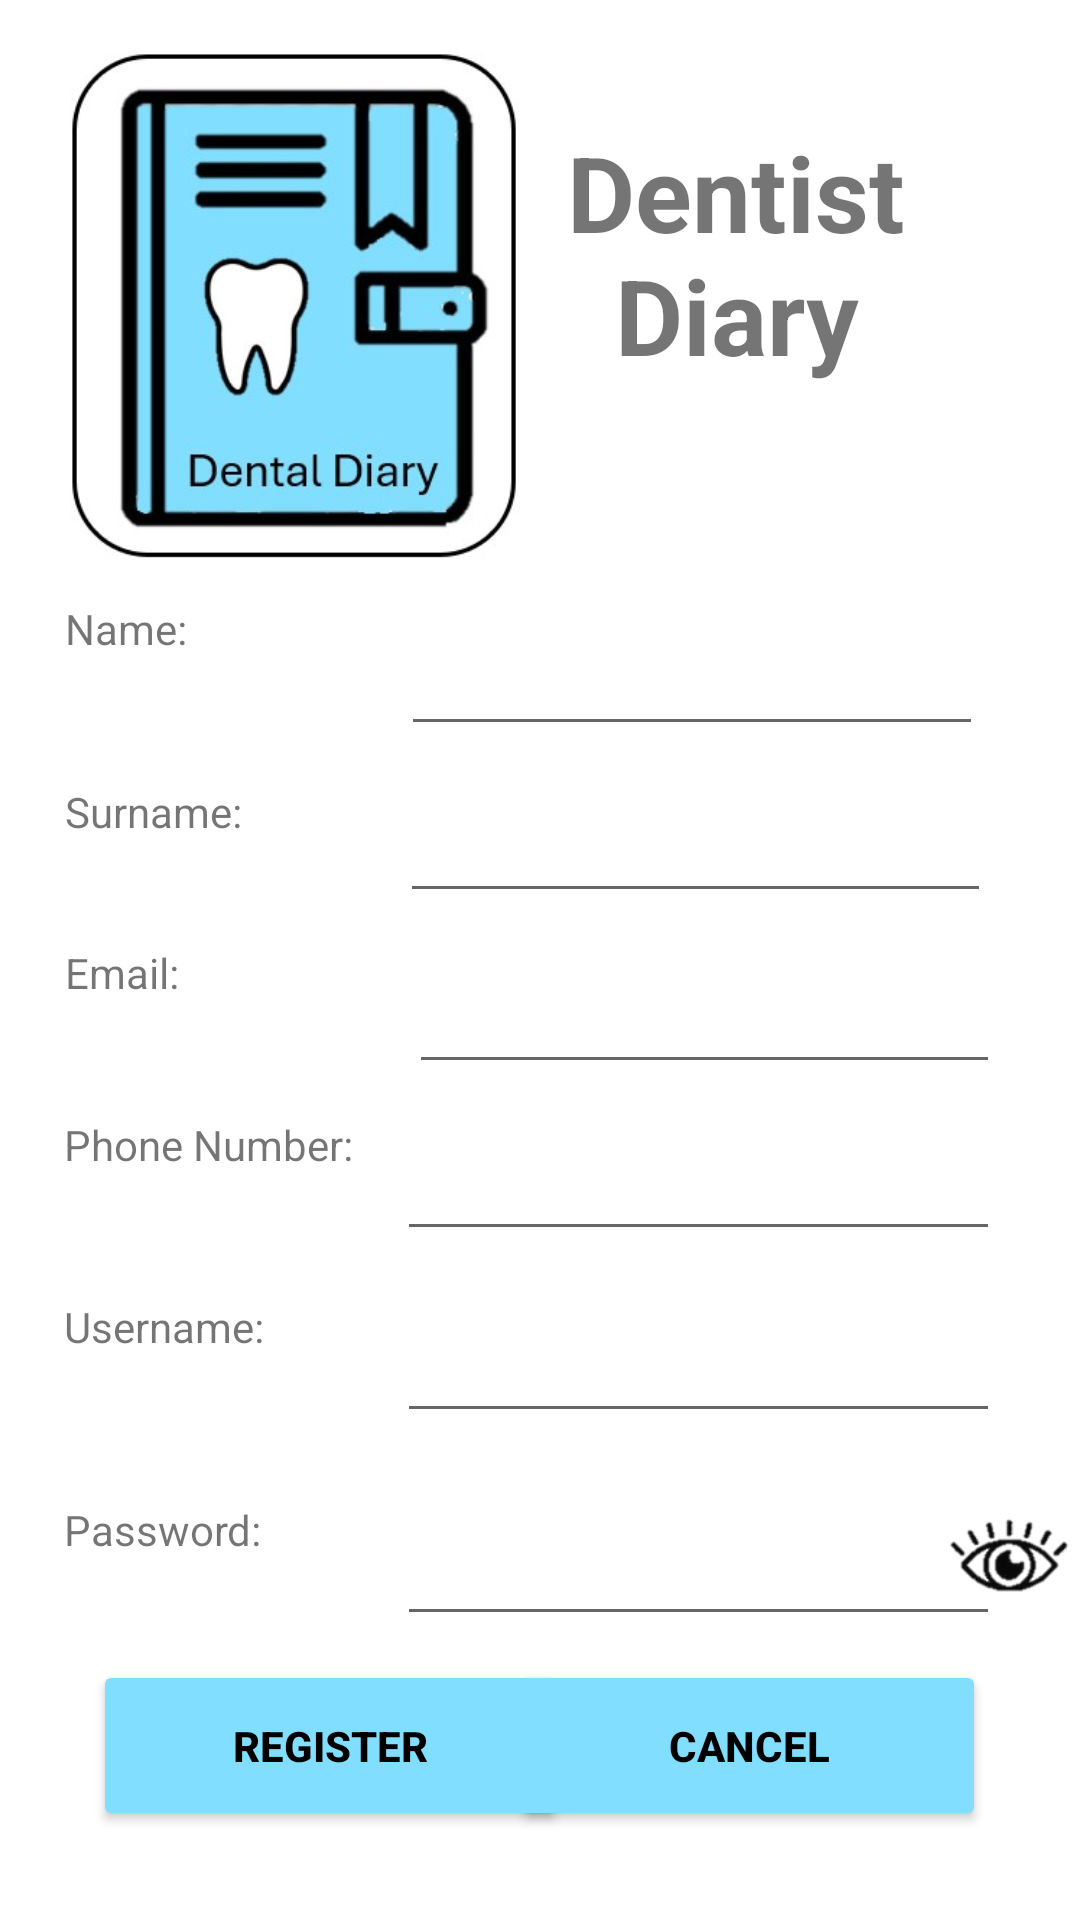

Icons on this 1080w x 1920h Android screen, each with its box as Rect(x1, y1, x2, y2):
View Password: Rect(950, 1519, 1068, 1592)
